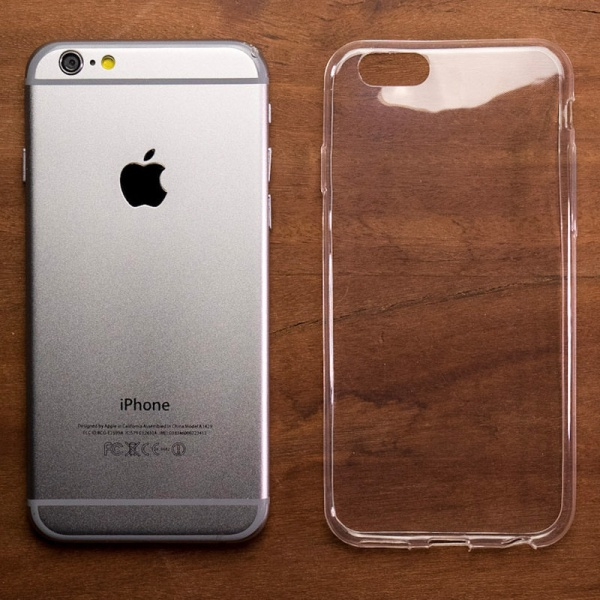apple: (106, 130, 172, 224)
